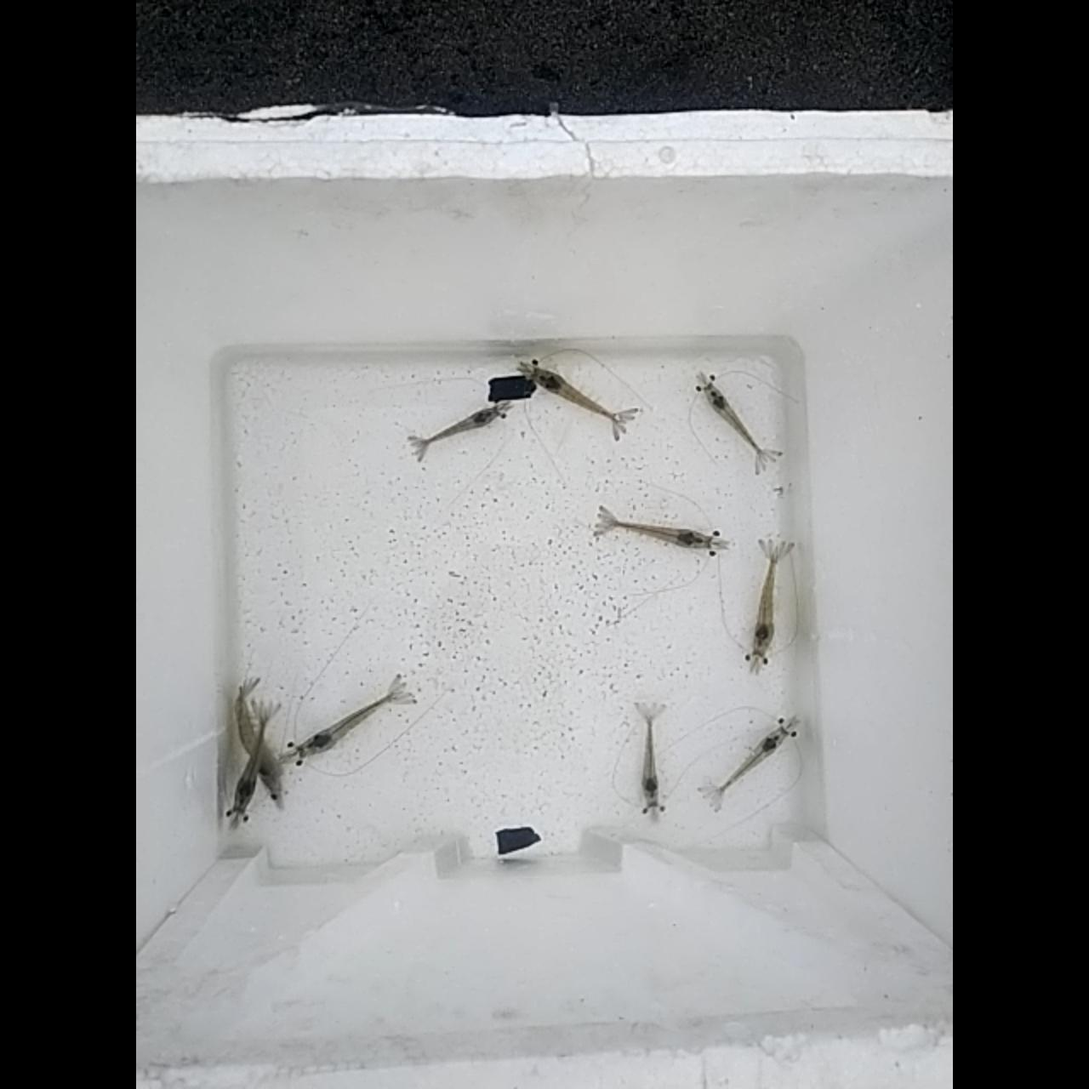box: (496, 826, 541, 859), (487, 374, 536, 403)
side_shrimp: (236, 684, 281, 787)
top_shrimp: (299, 689, 400, 755), (533, 368, 619, 420), (597, 516, 710, 550), (721, 730, 783, 788), (231, 721, 271, 810), (706, 390, 761, 454), (420, 408, 499, 448), (754, 551, 774, 652), (643, 711, 658, 803)
